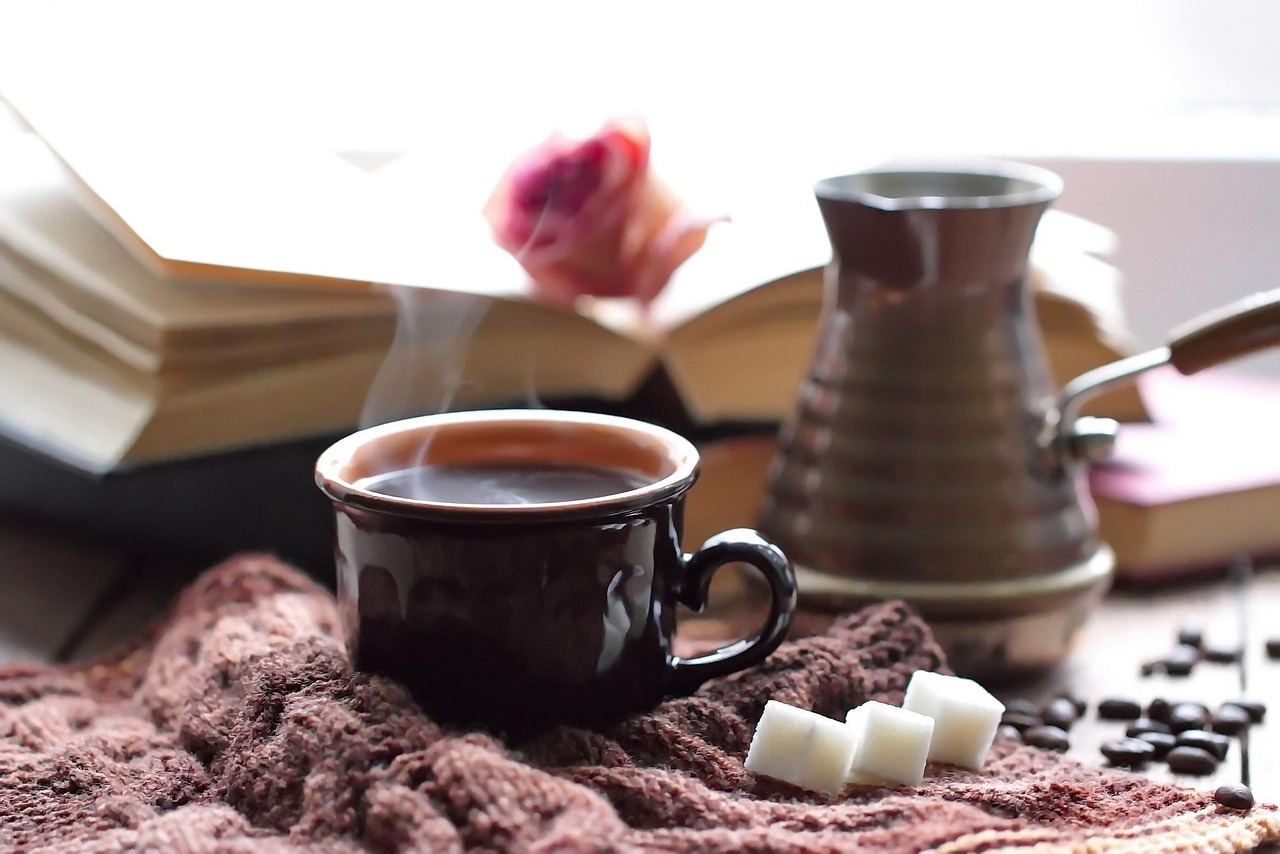mug: (268, 407, 798, 755)
